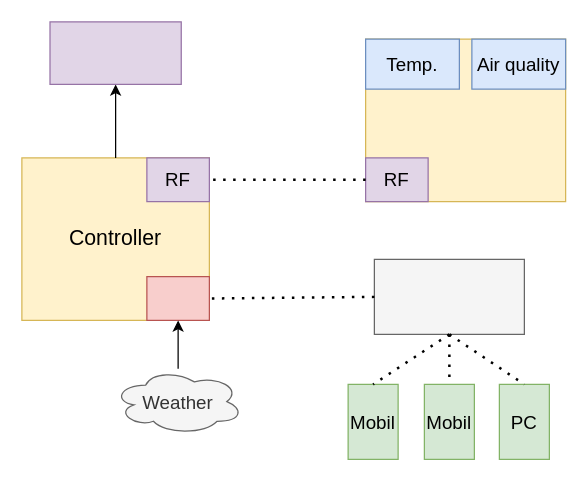
Image size: 588x481. Some labels were removed from this diagram. Each missing label, with the box of its shape:
Linear actuator (window): (49, 21, 181, 84)
Router: (373, 258, 524, 334)
Sensorbox: (364, 38, 566, 202)
WIFI: (146, 275, 209, 320)
